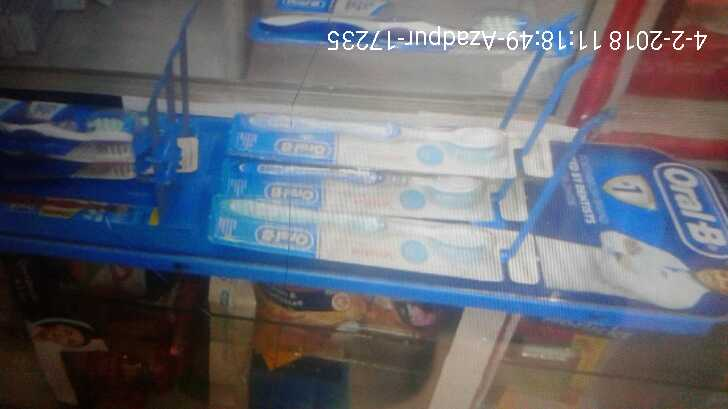oralb: (223, 194, 501, 249), (233, 103, 522, 152), (233, 152, 484, 201)
